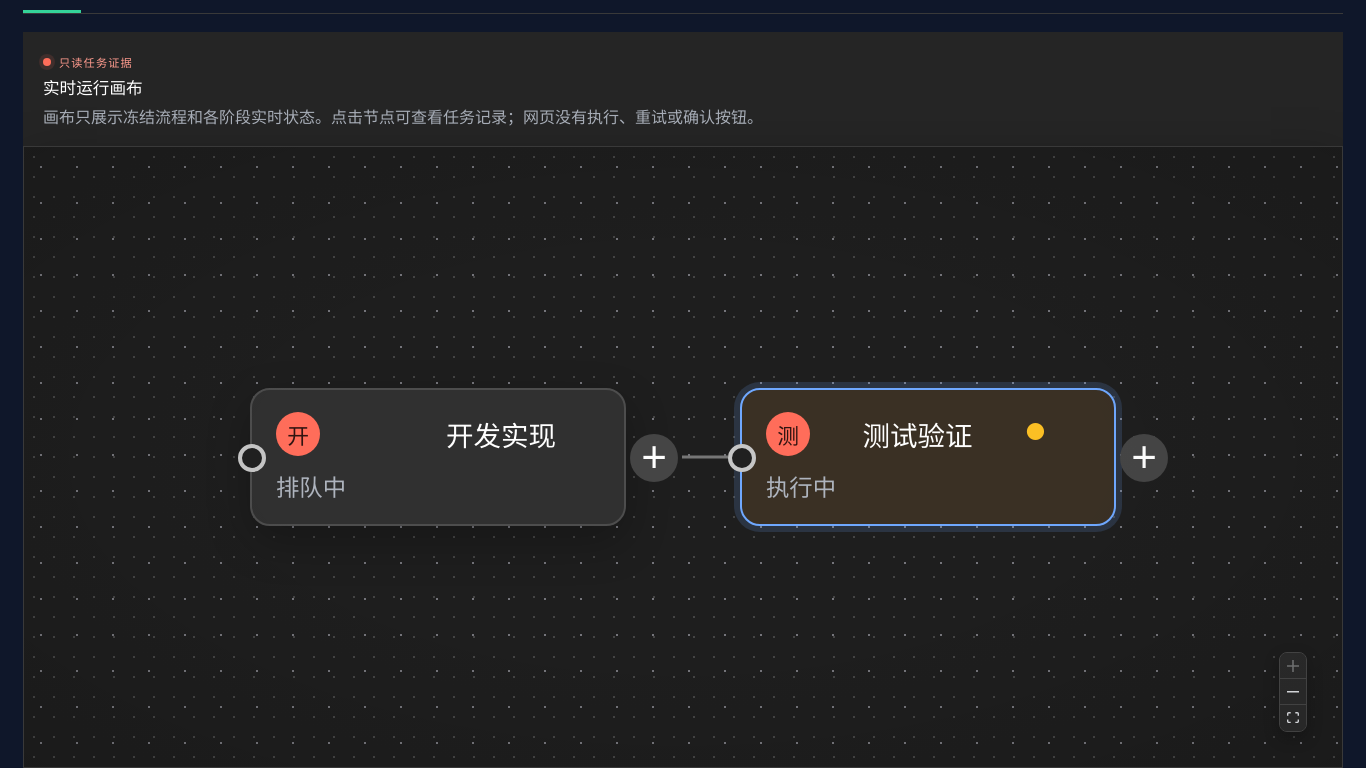
Test: refreshes the complete Run snapshot after a live event
The width and height of the screenshot is (1366, 768).
(page scrolled)
Click the element with class "is-running" at {"x": 928, "y": 457}, box [740,388,1116,526]
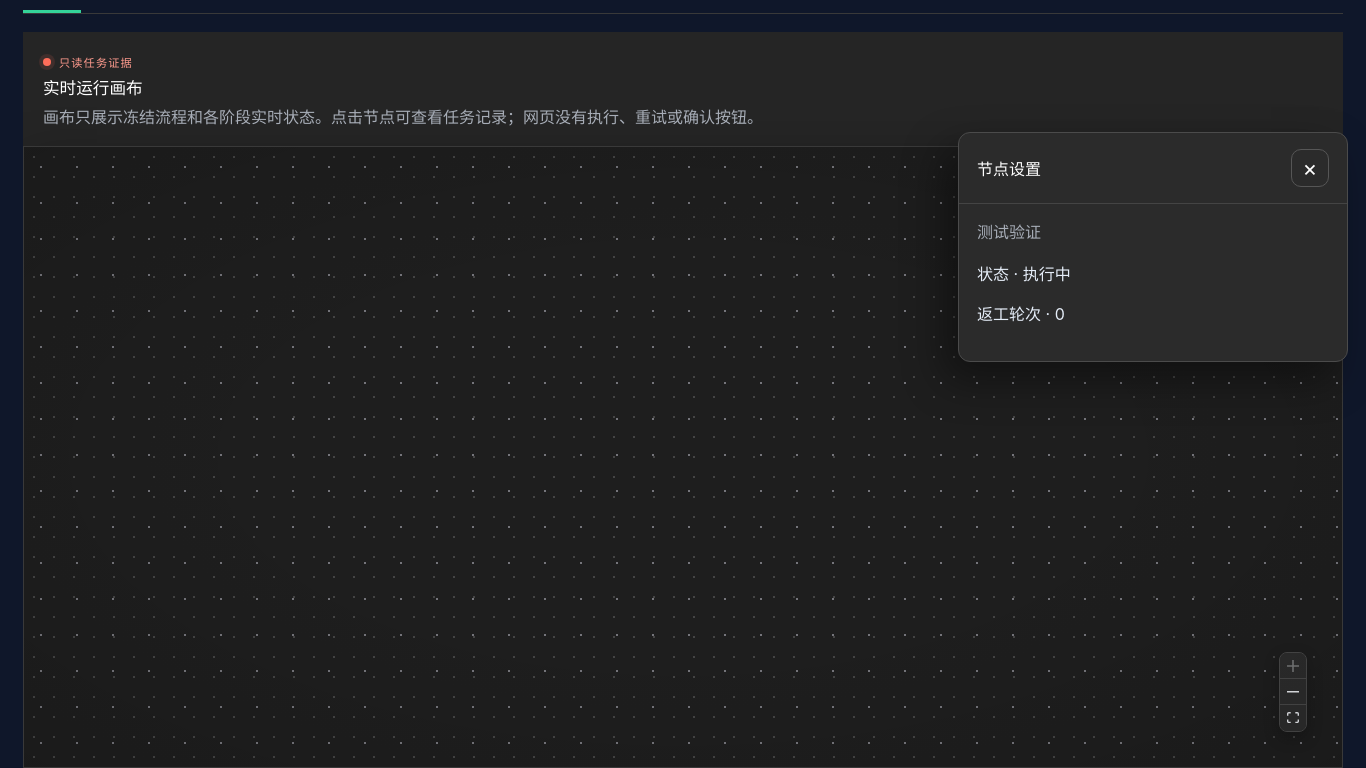
Now the dialog "节点设置" reads "节点设置 × 测试验证 状态 · 执行中 返工轮次 · 0", box [958,132,1348,362]
